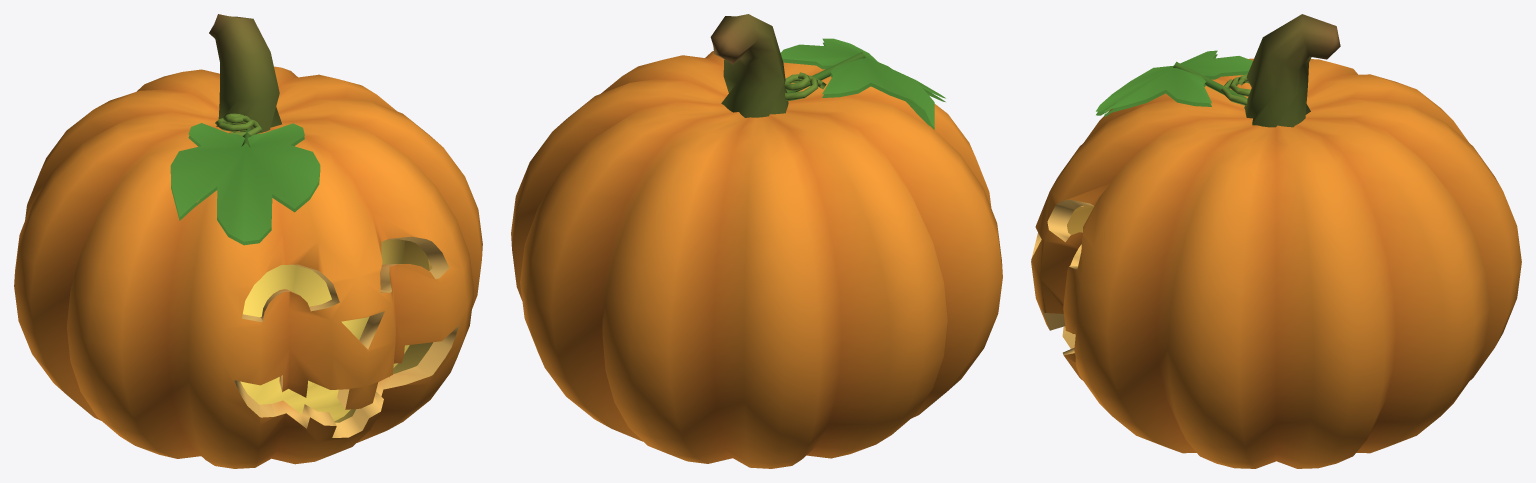
File: jack_o_lantern_b.glb
3 renders of one model, left to right at view 1: azimuth 30°, elevation 25°; view 2: azimuth 150°, elevation 25°; view 3: azimuth 270°, elevation 25°, orthographic. The views are drawn at different scales.
Visible parts, largest first — view 1: jack_o_lantern_b_main, jack_o_lantern_b_glow; view 2: jack_o_lantern_b_main; view 3: jack_o_lantern_b_main.
Part boxes in pixels (x1=…): jack_o_lantern_b_main: x1=14, y1=14, x2=482, y2=468; jack_o_lantern_b_glow: x1=240, y1=239, x2=432, y2=422; jack_o_lantern_b_main: x1=511, y1=14, x2=1002, y2=468; jack_o_lantern_b_main: x1=1031, y1=14, x2=1521, y2=468.
Bounding box in the file's own units: 0.5781 × 0.5567 × 0.6.
